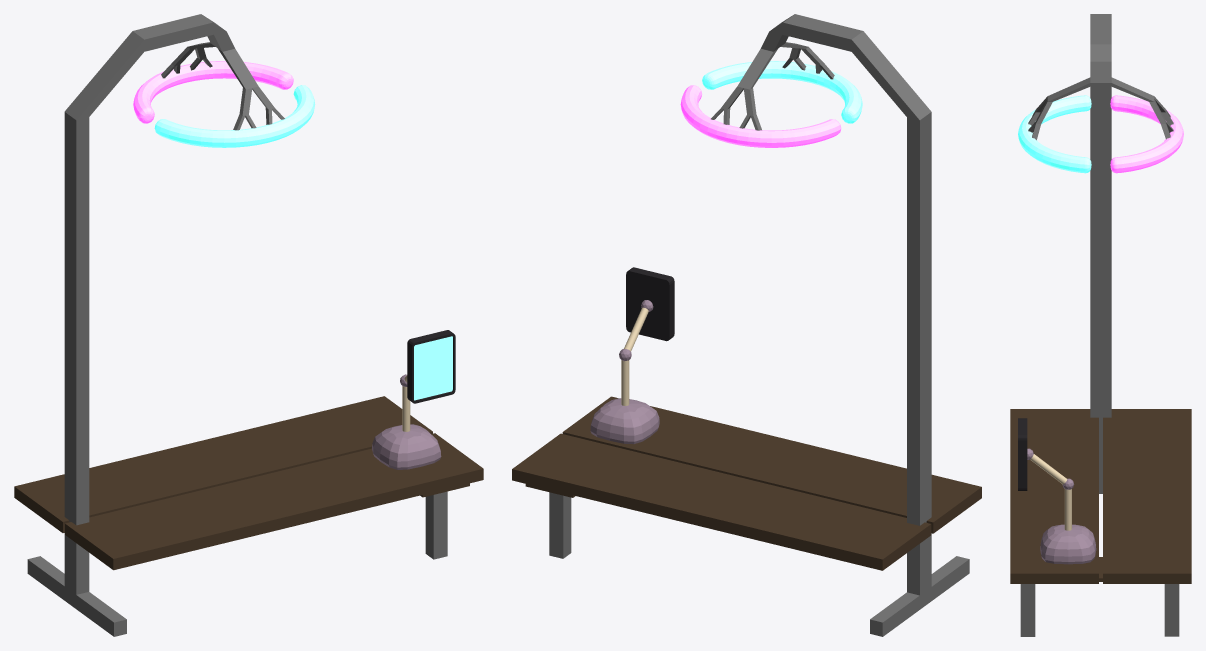
File: genesis-machine.gltf
3 renders of one model, left to right at view 1: azimuth 30°, elevation 25°; view 2: azimuth 150°, elevation 25°; view 3: azimuth 270°, elevation 25°, orthographic. The views are drawn at different scales.
Parts seen in each view (by area): view 1: table top front piece, left leg, table top back piece, green half halo, purple half halo, computer base, computer screen, front right leg, computer screen housing; view 2: table top back piece, left leg, table top front piece, purple half halo, computer screen housing, green half halo, computer base, back right leg; view 3: table top back piece, table top front piece, left leg, green half halo, purple half halo, computer base, back right leg, front right leg, computer screen housing, computer first arm, computer second arm.
Boxes of the visible parts, x1,y1,x2,y2 form: table top front piece: (65,433,483,570); left leg: (27,14,284,636); table top back piece: (14,396,432,532); green half halo: (154,85,315,147); purple half halo: (133,61,293,123); computer base: (372,424,441,469); computer screen: (414,336,452,400); front right leg: (425,491,447,559); computer screen housing: (407,330,455,403); table top back piece: (512,433,931,570); left leg: (711,14,969,636); table top front piece: (562,396,981,533); purple half halo: (680,85,841,147); computer screen housing: (626,267,674,341); green half halo: (702,61,862,123); computer base: (590,398,659,444); back right leg: (549,492,571,558); table top back piece: (1103,409,1191,583); table top front piece: (1010,409,1098,583); left leg: (1028,14,1173,493); green half halo: (1018,95,1091,173); purple half halo: (1110,95,1183,173); computer base: (1040,524,1096,564); back right leg: (1164,584,1179,636); front right leg: (1020,584,1035,636); computer screen housing: (1018,418,1027,490); computer first arm: (1064,489,1071,530); computer second arm: (1030,454,1067,484).
Size of the model in its own units: 5.25 by 7.5 by 2.44.
